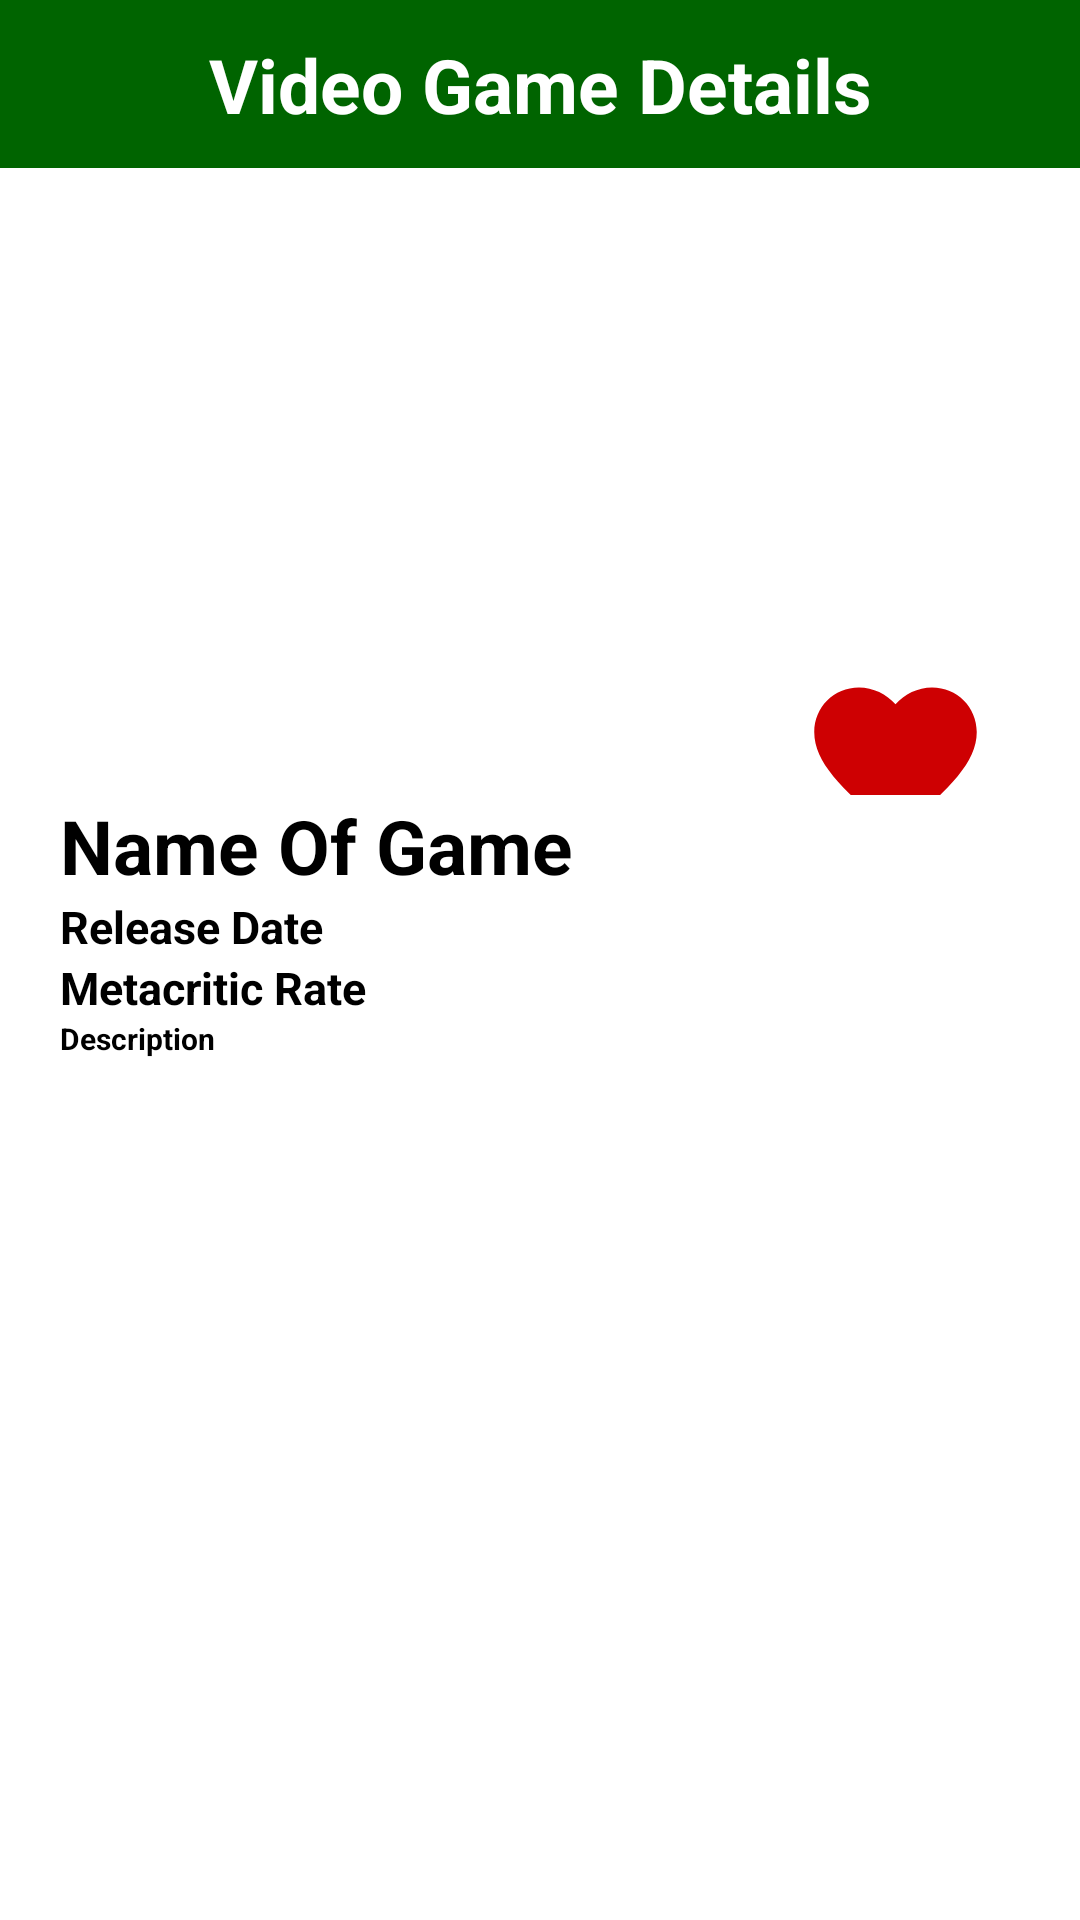

Icon bounding boxes for this 1080×1920 phone screenshot, format rect(x1, y1, x2, y2):
liked in details: rect(814, 687, 977, 795)
